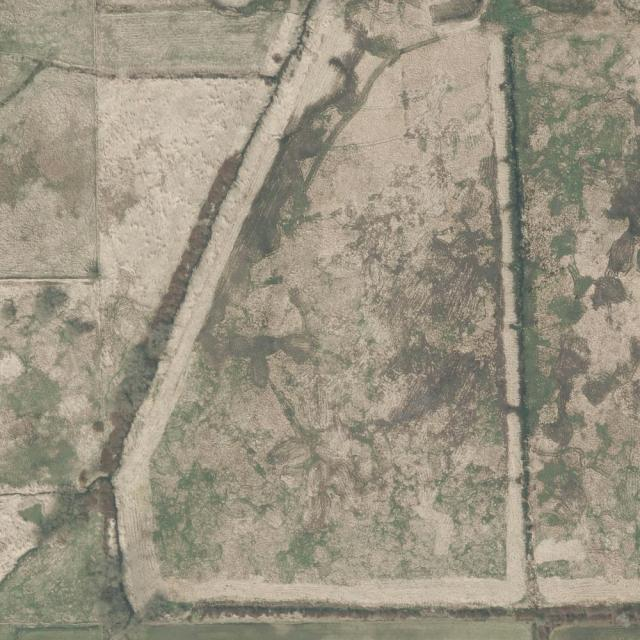agricultural_land: (110, 0, 527, 610)
